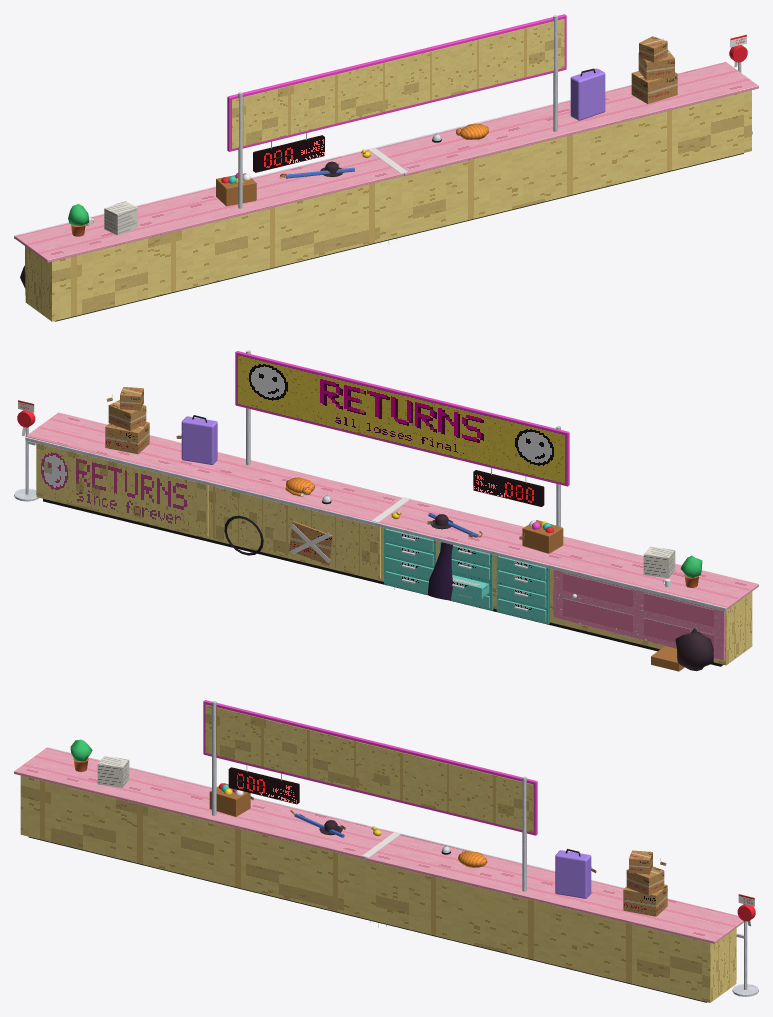
File: s_returns_counter.glb
3 views of the same model, one above another, from view 1: azimuth 30°, elevation 25°; view 2: azimuth 150°, elevation 25°; view 3: azimuth 330°, elevation 25° (orthographic).
Parts seen in each view (by area): view 1: s_returns_counter_mesh; view 2: s_returns_counter_mesh; view 3: s_returns_counter_mesh.
Part boxes in pixels (x1,y1,x2,y2): s_returns_counter_mesh: (14, 14, 758, 321); s_returns_counter_mesh: (14, 350, 758, 671); s_returns_counter_mesh: (14, 700, 758, 1002).
Size of what is drawn, in the model's own units: 12.5 by 3.23 by 1.3.
4 materials, 4 textured.
